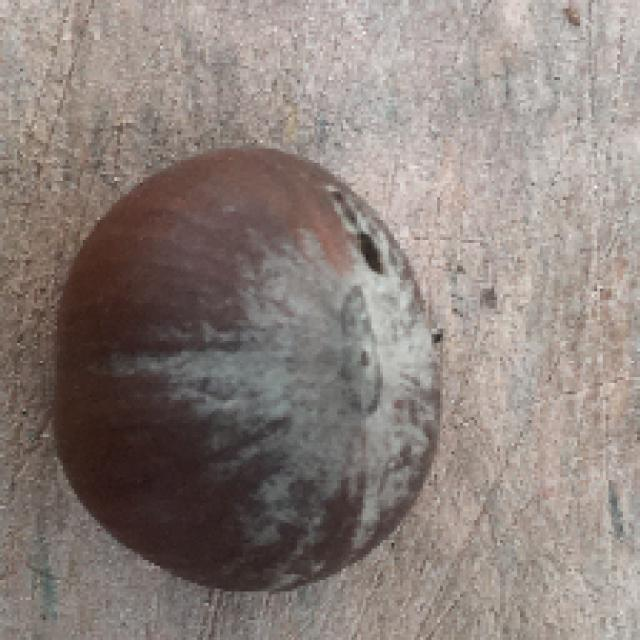damagedHazelnut: (41, 141, 442, 604)
